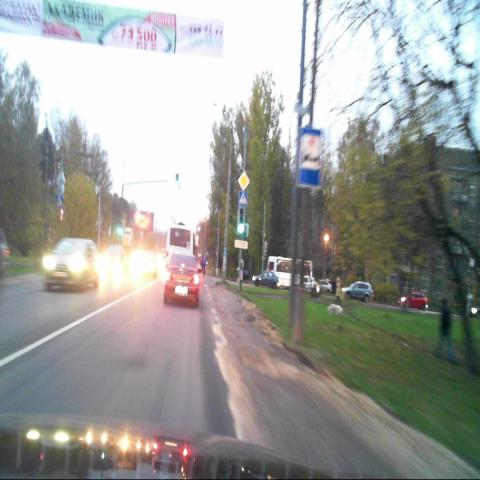7_2: (298, 127, 321, 189)
